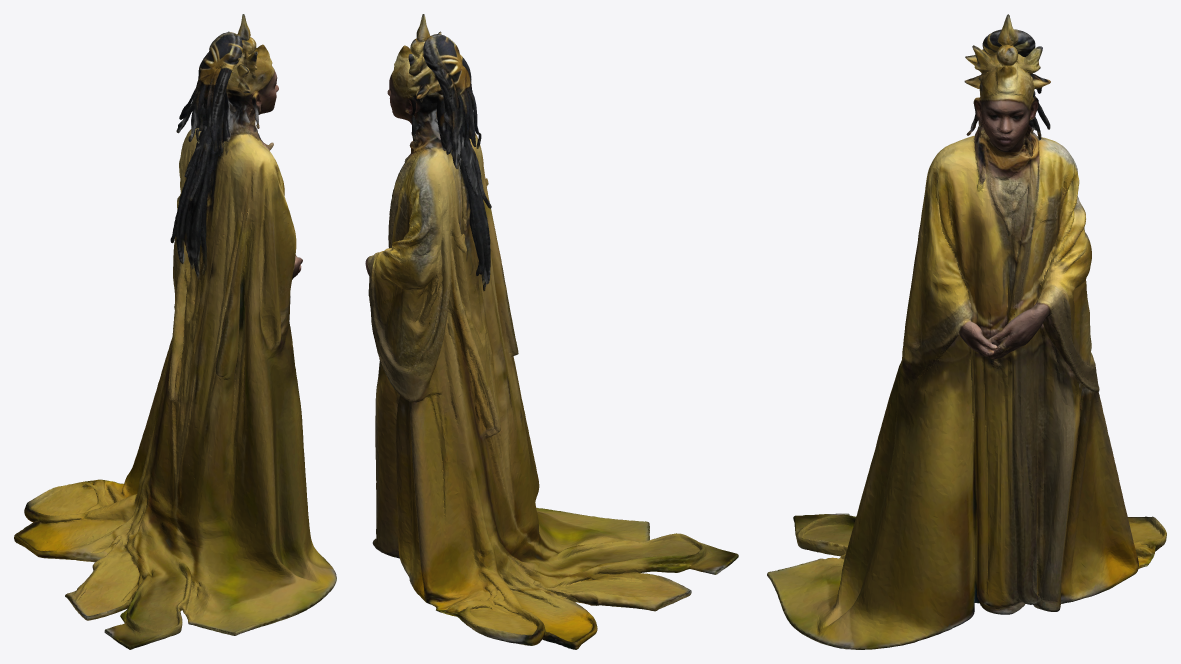
The model's file is modelo21.glb.
3 views of the same model, side by side, from view 1: azimuth 30°, elevation 25°; view 2: azimuth 150°, elevation 25°; view 3: azimuth 270°, elevation 25° (orthographic). The views are drawn at different scales.
Visible parts, largest first — view 1: tripo_node_58e76449-d1f0-4089-8d2d-0b9931ba1000; view 2: tripo_node_58e76449-d1f0-4089-8d2d-0b9931ba1000; view 3: tripo_node_58e76449-d1f0-4089-8d2d-0b9931ba1000.
Boxes of the visible parts, x1,y1,x2,y2 form: tripo_node_58e76449-d1f0-4089-8d2d-0b9931ba1000: (14,14,336,649); tripo_node_58e76449-d1f0-4089-8d2d-0b9931ba1000: (365,14,738,649); tripo_node_58e76449-d1f0-4089-8d2d-0b9931ba1000: (767,14,1166,649).
Size of the model in its own units: 0.5145 by 1 by 0.577.
1 material, 1 textured.
